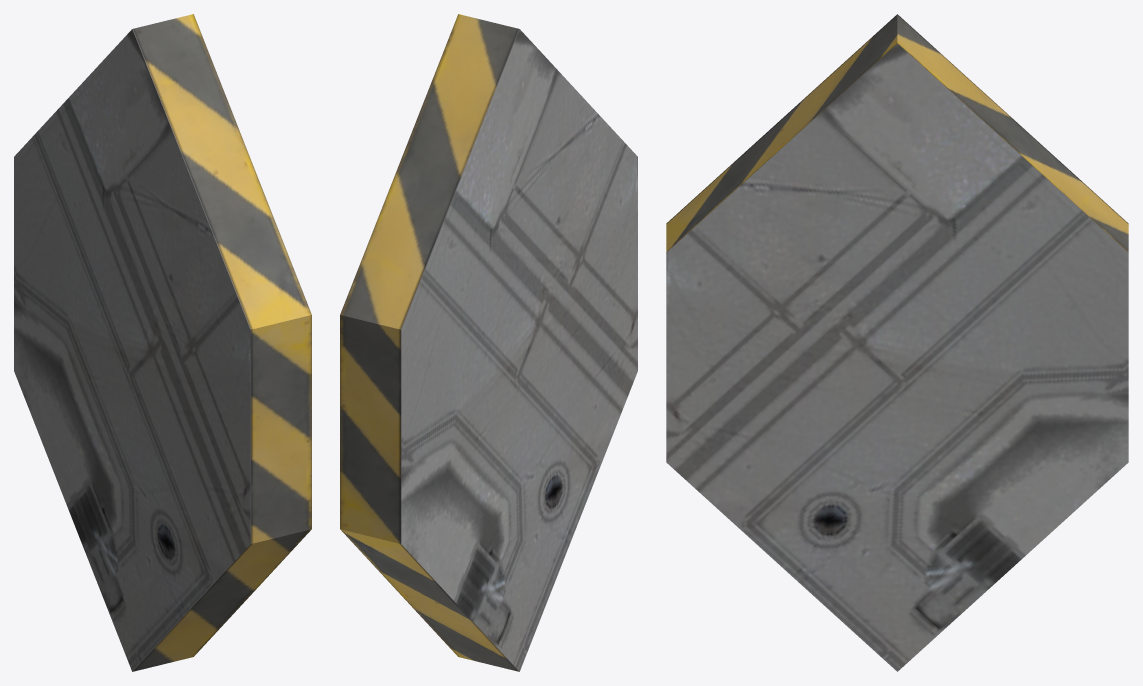
File: SM_DoorCenter.fbx
The picture shows the model from 3 angles, left to right: view 1: azimuth 30°, elevation 25°; view 2: azimuth 150°, elevation 25°; view 3: azimuth 270°, elevation 25°; orthographic projection. The views are drawn at different scales.
Parts seen in each view (by area): view 1: SM_DoorCenter_LOD0; view 2: SM_DoorCenter_LOD0; view 3: SM_DoorCenter_LOD0.
Part boxes in pixels (box(x1,y1,x2,y2)): SM_DoorCenter_LOD0: box(14, 14, 311, 671); SM_DoorCenter_LOD0: box(340, 14, 637, 671); SM_DoorCenter_LOD0: box(666, 14, 1128, 671).
Size of the model in its own units: 12 by 80 by 120.
